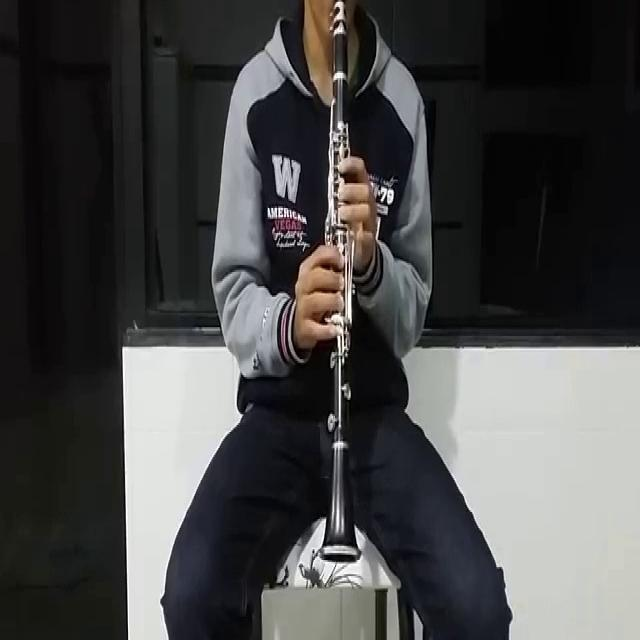Clarinet: (324, 4, 361, 562)
